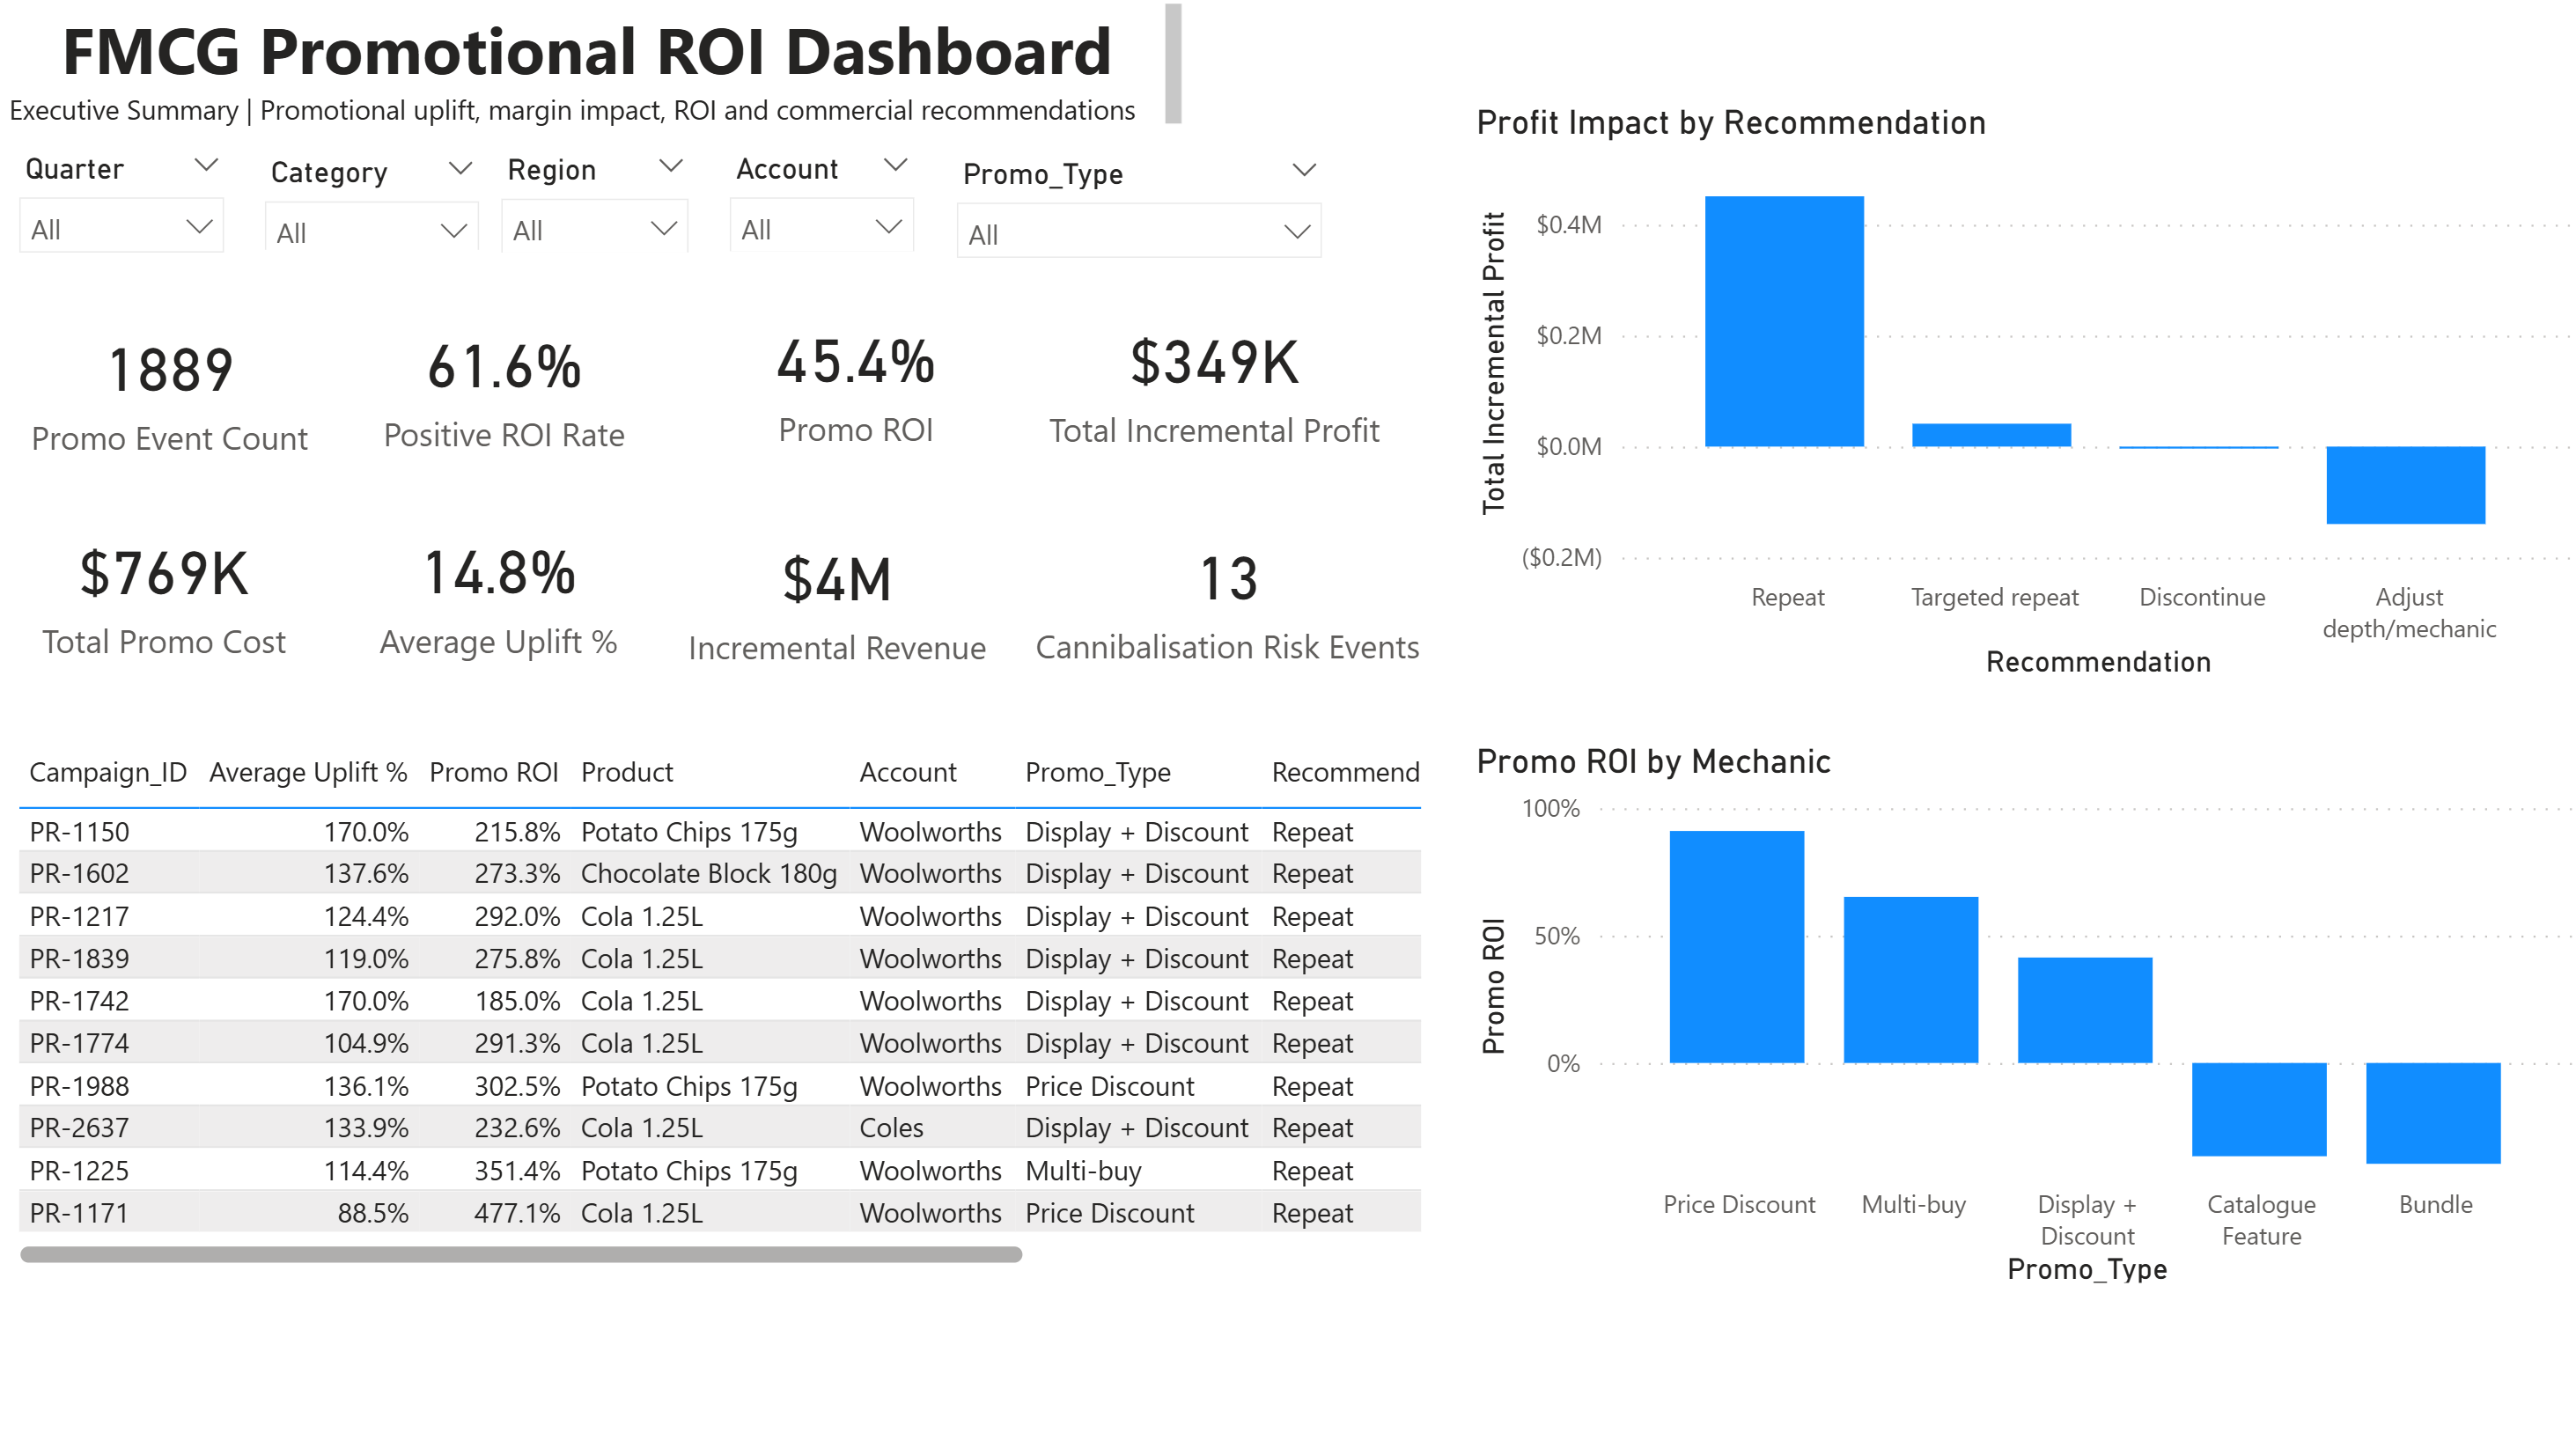

The dashboard page shown, as its layout file describes it:
{"tool":"powerbi","page":{"name":"Executive Summary","canvas":[1280,720],"ordinal":0},"visuals":[{"type":"card","fields":{"Values":["_Measures.Promo Event Count"]},"box":[4.9,148.5,157.7,92.7],"z":0},{"type":"card","fields":{"Values":["_Measures.Promo ROI"]},"box":[322.3,130.7,203.3,119],"z":1000},{"type":"card","fields":{"Values":["_Measures.Total Promo Cost"]},"box":[0,248,162.7,95.1],"z":2000},{"type":"card","fields":{"Values":["_Measures.Positive ROI Rate"]},"box":[162.8,127.5,173.9,130.7],"z":3000},{"type":"card","fields":{"Values":["_Measures.Total Incremental Profit"]},"box":[487.7,148.4,227.5,84.3],"z":4000},{"type":"card","fields":{"Values":["_Measures.Average Uplift %"]},"box":[162.7,247.4,168.2,95.8],"z":5000},{"type":"textbox","box":[0,0,590.5,78.5],"z":6000},{"type":"card","fields":{"Values":["_Measures.Total Incremental Revenue"]},"box":[322.3,241.2,184.8,114.2],"z":7000},{"type":"card","fields":{"Values":["_Measures.High Cannibalisation Risk Events"]},"box":[507.3,243.8,201.3,107.9],"z":8000},{"type":"slicer","fields":{"Values":["PromoData.Quarter"]},"box":[0,73,121.5,57.7],"z":9000},{"type":"slicer","fields":{"Values":["PromoData.Category"]},"box":[121.5,75.5,125.8,52.2],"z":10000},{"type":"slicer","fields":{"Values":["PromoData.Region"]},"box":[238.8,73.7,112.9,54.6],"z":11000},{"type":"slicer","fields":{"Values":["PromoData.Account"]},"box":[351.7,73,111.1,54.6],"z":12000},{"type":"slicer","fields":{"Values":["PromoData.Promo_Type"]},"box":[463.8,75.7,200.9,55.1],"z":13000},{"type":"columnChart","title":"Profit Impact by Recommendation","fields":{"Category":["PromoData.Recommendation"],"Y":["_Measures.Total Incremental Profit"]},"box":[726.3,53.6,553.7,289.6],"z":14000},{"type":"clusteredColumnChart","title":"Promo ROI by Mechanic","fields":{"Y":["_Measures.Promo ROI"],"Category":["PromoData.Promo_Type"]},"box":[726.3,370,553.7,273.9],"z":15000},{"type":"tableEx","fields":{"Values":["PromoData.Campaign_ID","_Measures.Average Uplift %","_Measures.Promo ROI","PromoData.Product","PromoData.Account","PromoData.Promo_Type","PromoData.Recommendation","PromoData.Category","PromoData.Region","Sum(PromoData.Incremental_Profit_After_Promo_Cost)"]},"box":[3.9,370,704.7,264.1],"z":16000}]}

Visuals, with their boxes in screenshot pixels (x1, y1, x2, y2), scaled from the page's 1280x720 canvas onto the 2576x1440 screenshot:
card - _Measures.Promo Event Count: BBox(10, 297, 328, 482)
card - _Measures.Promo ROI: BBox(649, 261, 1057, 499)
card - _Measures.Total Promo Cost: BBox(0, 496, 328, 687)
card - _Measures.Positive ROI Rate: BBox(328, 255, 678, 517)
card - _Measures.Total Incremental Profit: BBox(982, 297, 1439, 466)
card - _Measures.Average Uplift %: BBox(328, 495, 666, 687)
textbox: BBox(0, 0, 1189, 157)
card - _Measures.Total Incremental Revenue: BBox(649, 482, 1020, 711)
card - _Measures.High Cannibalisation Risk Events: BBox(1021, 488, 1426, 703)
slicer - PromoData.Quarter: BBox(0, 146, 245, 261)
slicer - PromoData.Category: BBox(245, 151, 497, 255)
slicer - PromoData.Region: BBox(481, 147, 708, 257)
slicer - PromoData.Account: BBox(708, 146, 931, 255)
slicer - PromoData.Promo_Type: BBox(933, 151, 1337, 261)
"Profit Impact by Recommendation" columnChart: BBox(1461, 107, 2575, 687)
"Promo ROI by Mechanic" clusteredColumnChart: BBox(1461, 740, 2575, 1288)
tableEx - PromoData.Campaign_ID x _Measures.Average Uplift %: BBox(8, 740, 1426, 1268)
